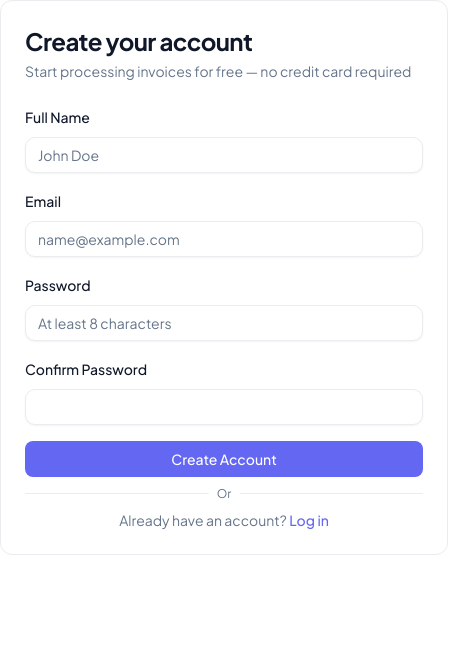
it: RegisterForm › shows validation errors for empty required fields on submit
The image size is (465, 656).
Click the button "Create Account" at (224, 459), box [25,441,423,477]
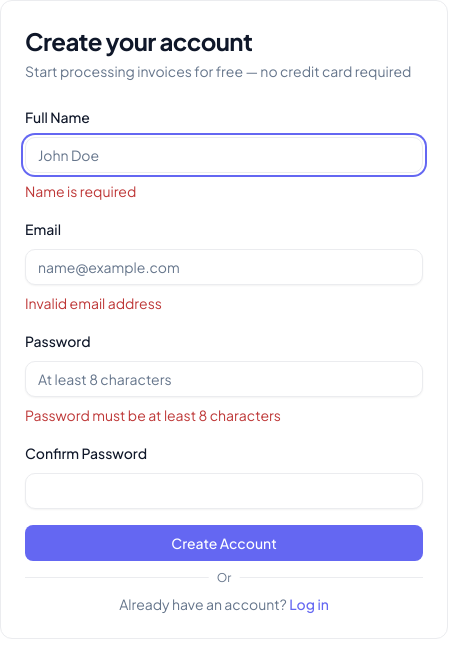
Result: the text "Name is required" is shown at [25,182,136,200]
